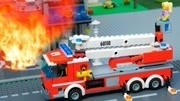fire: (0, 1, 60, 69)
